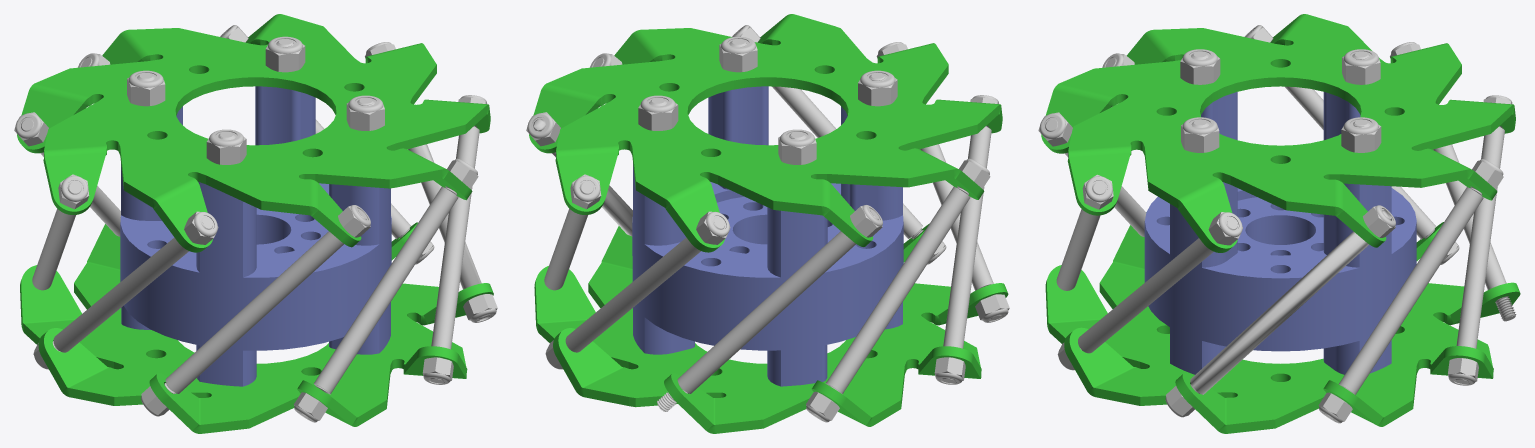
The model's file is leftFront-inner-dec-1.fbx.
3 views of the same model, side by side, from view 1: azimuth 30°, elevation 25°; view 2: azimuth 150°, elevation 25°; view 3: azimuth 270°, elevation 25° (orthographic).
Parts seen in each view (by area): view 1: Body1, Body1.019, Body1.051, Body1.018, Body1.005, Body1.023, Body1.038, Body1.012, Body1.007, Body1.028, Body1.033, Body1.006 (+12 smaller); view 2: Body1, Body1.019, Body1.051, Body1.012, Body1.017, Body1.038, Body1.008, Body1.052, Body1.018, Body1.005, Body1.028, Body1.033 (+11 smaller); view 3: Body1, Body1.019, Body1.051, Body1.052, Body1.007, Body1.008, Body1.023, Body1.018, Body1.017, Body1.012, Body1.028, Body1.033 (+11 smaller).
Part boxes in pixels (x1=…): Body1: x1=17, y1=14, x2=490, y2=252; Body1.019: x1=120, y1=86, x2=391, y2=386; Body1.051: x1=20, y1=222, x2=493, y2=433; Body1.018: x1=299, y1=186, x2=458, y2=419; Body1.005: x1=164, y1=209, x2=366, y2=393; Body1.023: x1=430, y1=125, x2=479, y2=383; Body1.038: x1=52, y1=217, x2=212, y2=352; Body1.012: x1=32, y1=182, x2=81, y2=290; Body1.007: x1=408, y1=144, x2=490, y2=320; Body1.028: x1=265, y1=36, x2=305, y2=72; Body1.033: x1=206, y1=129, x2=246, y2=164; Body1.006: x1=127, y1=70, x2=165, y2=106; Body1: x1=529, y1=14, x2=1002, y2=252; Body1.019: x1=632, y1=86, x2=903, y2=386; Body1.051: x1=534, y1=223, x2=1008, y2=433; Body1.012: x1=811, y1=186, x2=970, y2=419; Body1.017: x1=657, y1=209, x2=878, y2=411; Body1.038: x1=941, y1=125, x2=991, y2=382; Body1.008: x1=565, y1=217, x2=724, y2=352; Body1.052: x1=544, y1=181, x2=593, y2=290; Body1.018: x1=732, y1=29, x2=923, y2=238; Body1.005: x1=920, y1=144, x2=1002, y2=320; Body1.028: x1=638, y1=95, x2=678, y2=130; Body1.033: x1=858, y1=70, x2=897, y2=106; Body1: x1=1041, y1=14, x2=1515, y2=252; Body1.019: x1=1144, y1=92, x2=1416, y2=374; Body1.051: x1=1045, y1=222, x2=1520, y2=433; Body1.052: x1=1324, y1=186, x2=1483, y2=420; Body1.007: x1=1190, y1=209, x2=1391, y2=394; Body1.008: x1=1455, y1=126, x2=1504, y2=383; Body1.023: x1=1078, y1=217, x2=1237, y2=353; Body1.018: x1=1056, y1=182, x2=1106, y2=290; Body1.017: x1=1433, y1=144, x2=1516, y2=321; Body1.012: x1=1245, y1=29, x2=1435, y2=239; Body1.028: x1=1341, y1=117, x2=1381, y2=152; Body1.033: x1=1180, y1=49, x2=1220, y2=84.
Size of the model in its own units: 9.51 by 5.9 by 9.58.
